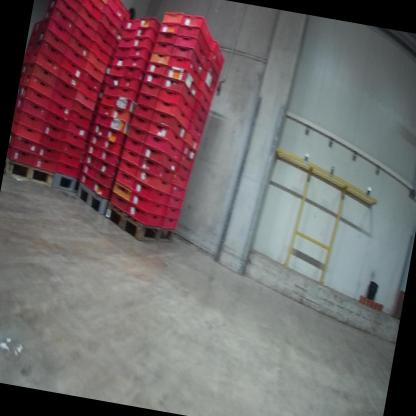pallet: (102, 203, 186, 245), (70, 177, 112, 219), (4, 156, 57, 186), (51, 169, 87, 193)
